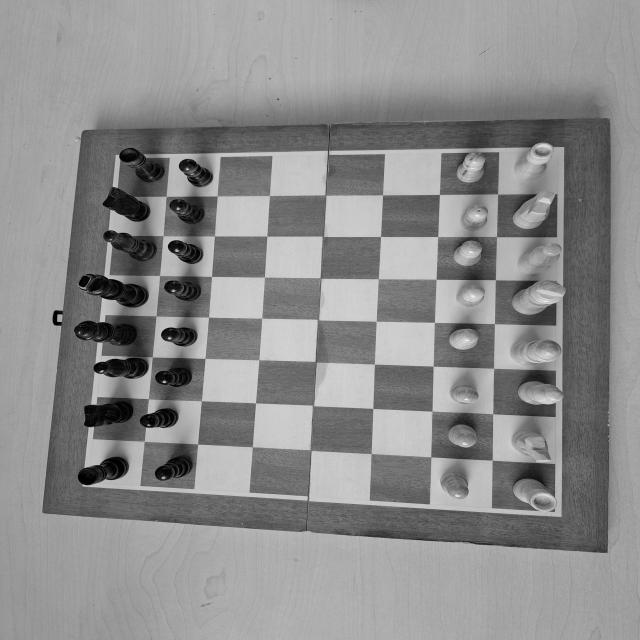chess-table-corners: (546, 144, 570, 160), (544, 503, 566, 520), (77, 474, 95, 490), (111, 153, 131, 166)
